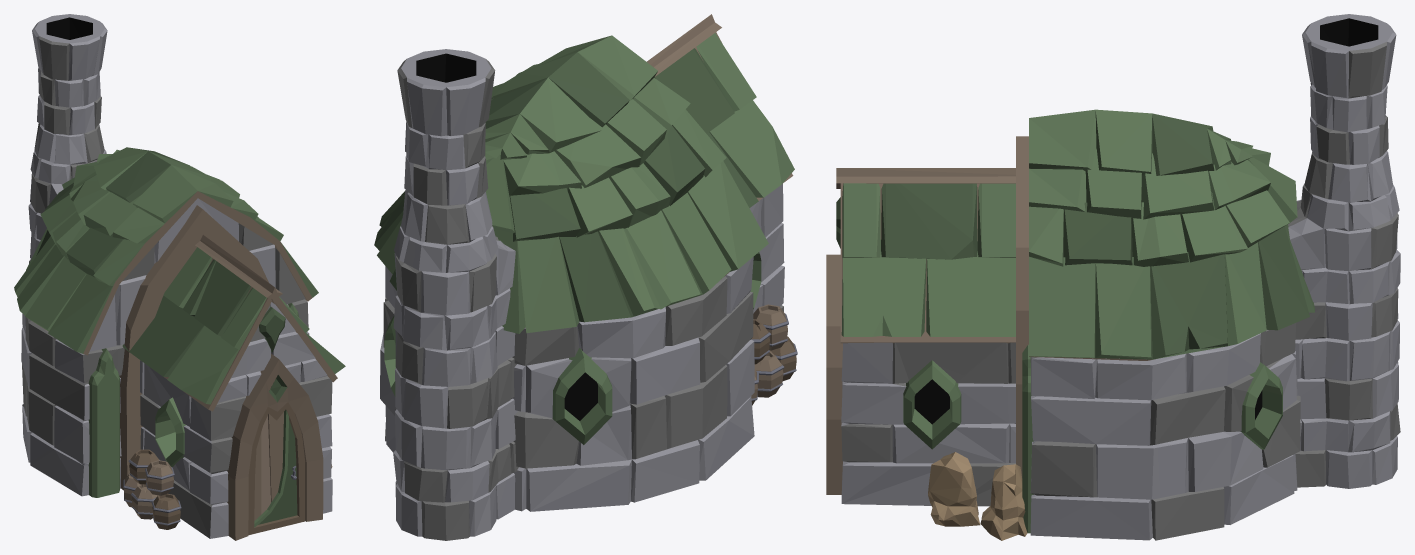
The model's file is _winery.fbx.
3 views of the same model, side by side, from view 1: azimuth 30°, elevation 25°; view 2: azimuth 150°, elevation 25°; view 3: azimuth 270°, elevation 25° (orthographic). The views are drawn at different scales.
Parts seen in each view (by area): view 1: winery; view 2: winery; view 3: winery.
Boxes of the visible parts, <box> form: winery: <box>14,14,345,540</box>; winery: <box>374,14,797,540</box>; winery: <box>826,14,1400,540</box>.
Size of the model in its own units: 516 by 693 by 827.
